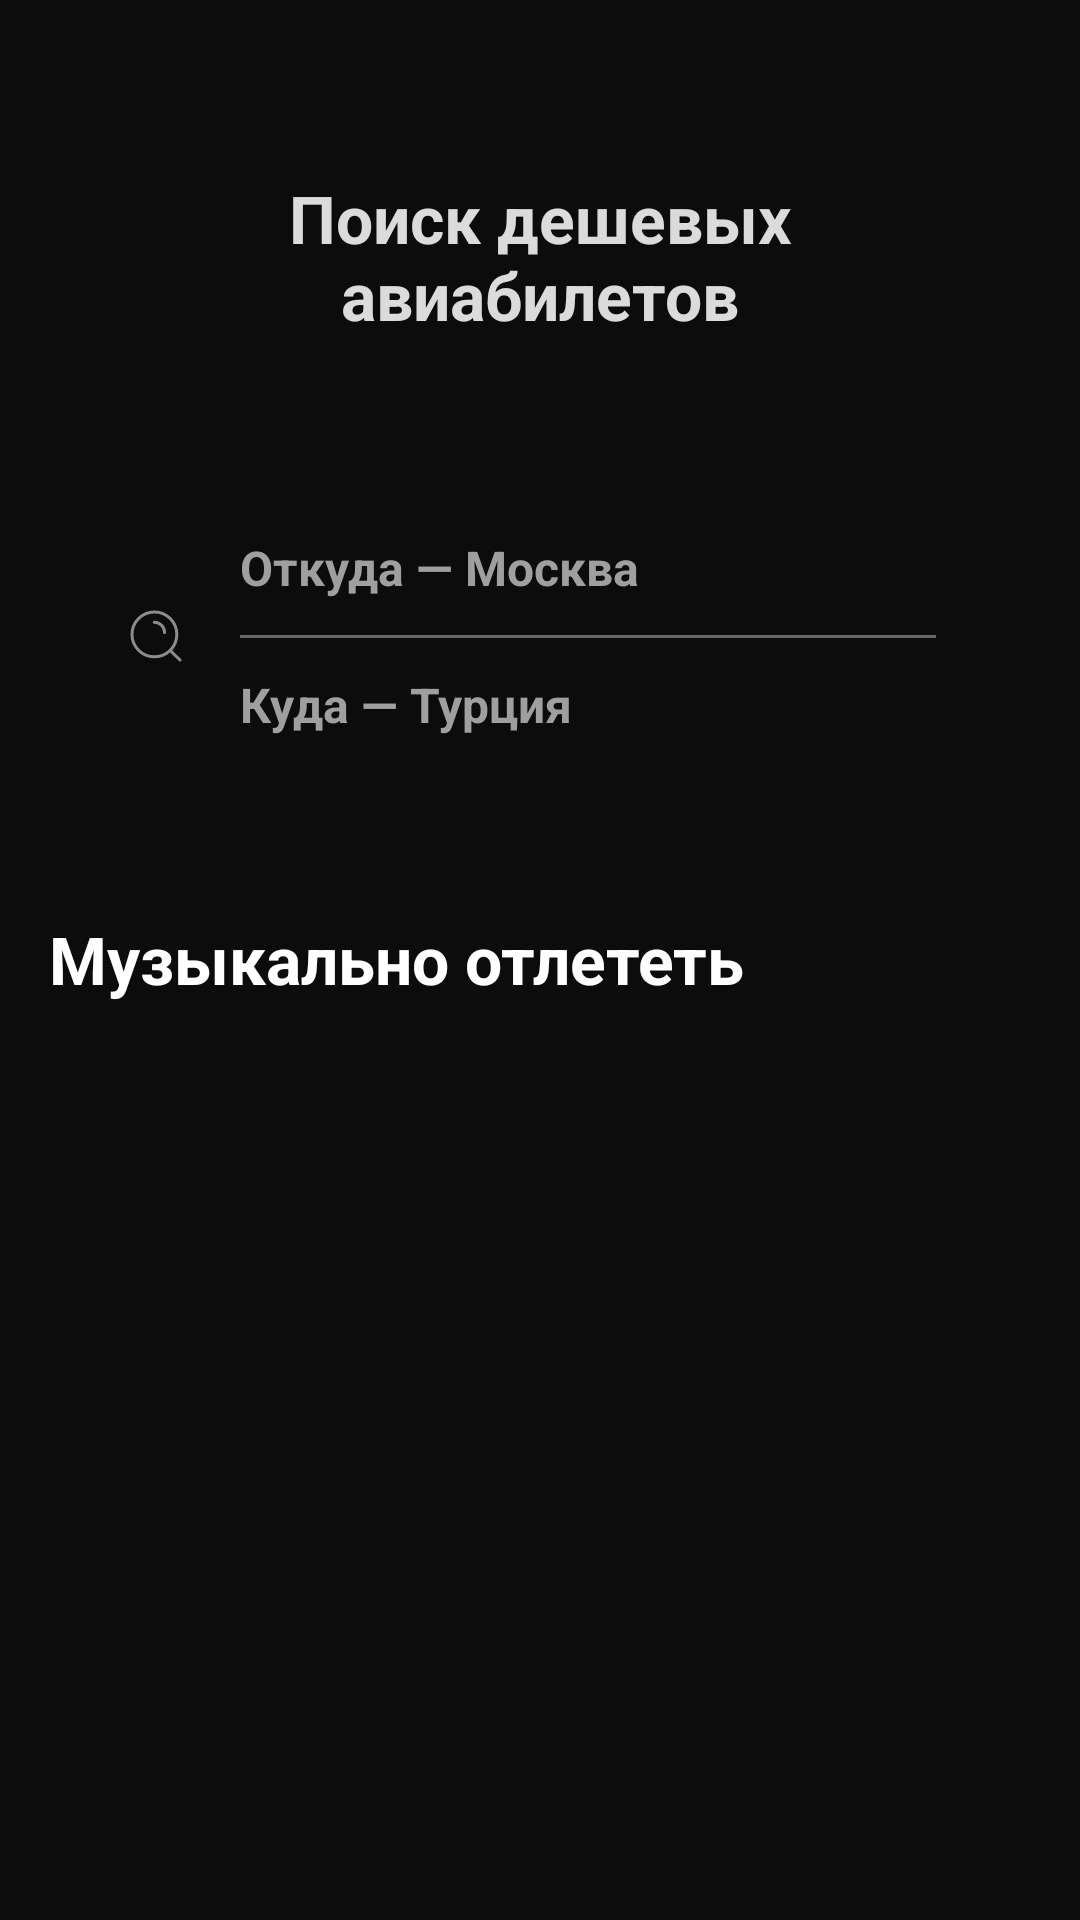

Locate icon controls on the screen. Image size 1080 × 1920, boxes as (x1, y1, x2, y2).
Значок поиска: (130, 610, 182, 662)
